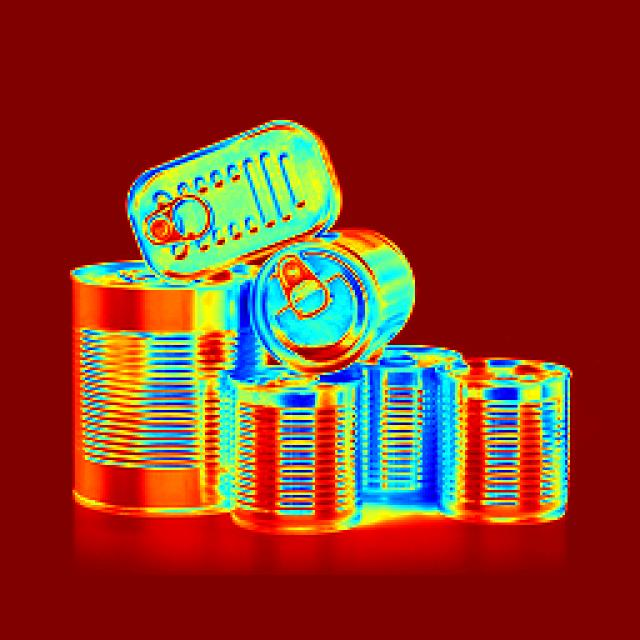Aluminium Food Cans: (69, 256, 246, 524), (102, 125, 364, 288), (352, 344, 465, 522), (451, 346, 564, 523), (241, 364, 355, 524), (264, 244, 396, 355)
